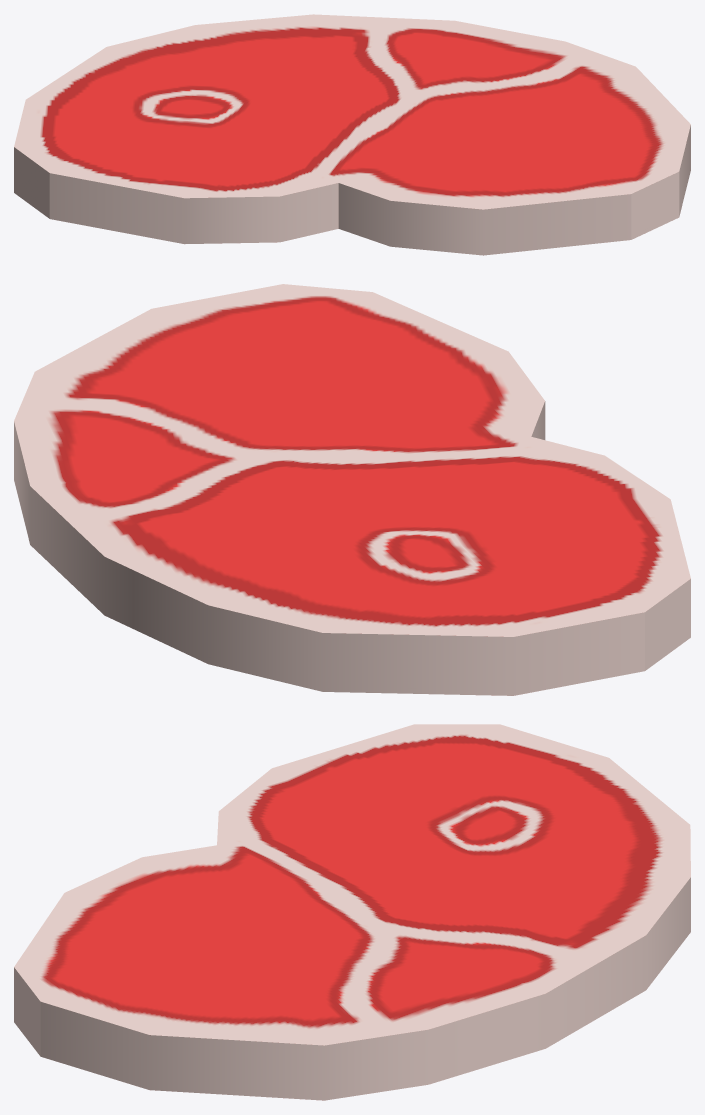
The model's file is Meat.fbx.
3 views of the same model, one above another, from view 1: azimuth 30°, elevation 25°; view 2: azimuth 150°, elevation 25°; view 3: azimuth 270°, elevation 25° (orthographic). The views are drawn at different scales.
Visible parts, largest first — view 1: Cylinder; view 2: Cylinder; view 3: Cylinder.
Boxes of the visible parts, bbox=[...] form: Cylinder: bbox=[14, 14, 690, 255]; Cylinder: bbox=[14, 284, 690, 695]; Cylinder: bbox=[14, 724, 690, 1100].
Size of the model in its own units: 15.01 by 1.2 by 13.37.
1 material, 1 textured.
